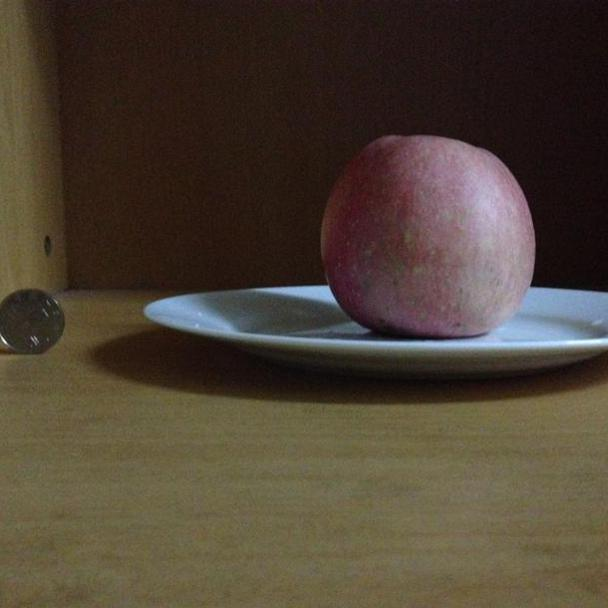apple: (320, 133, 537, 336)
